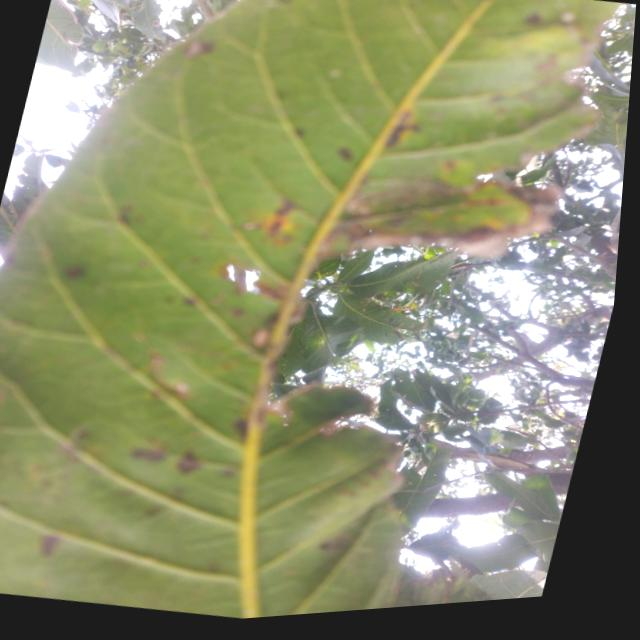Anthracnose: (256, 197, 310, 250), (378, 110, 423, 154), (167, 447, 203, 483), (180, 33, 214, 60), (128, 445, 167, 463), (36, 532, 59, 559), (231, 416, 252, 441), (61, 263, 85, 280), (218, 464, 238, 480), (523, 12, 542, 28), (335, 146, 353, 162), (117, 204, 132, 223), (292, 126, 305, 139), (229, 307, 244, 318)
Bacterial Cancer: (298, 131, 529, 275)
